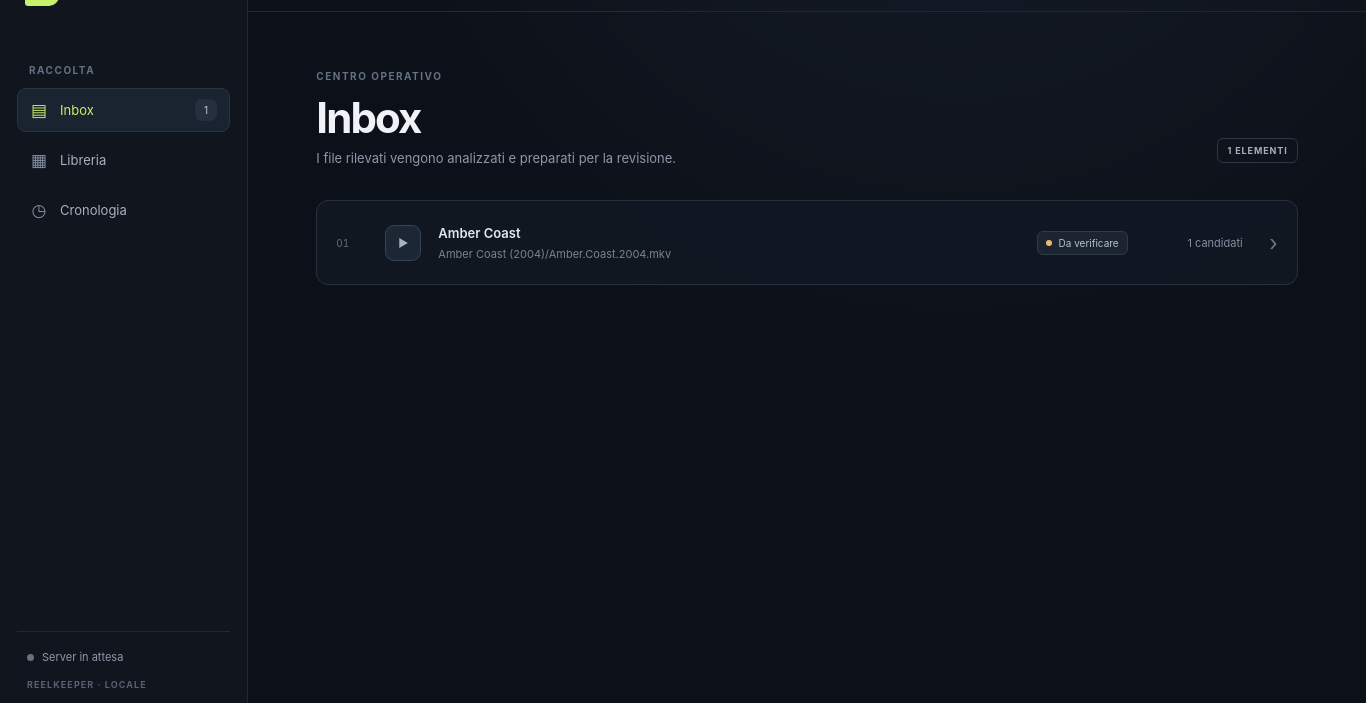
Test: App › edits metadata with explicit approval and locks changed fields
The image size is (1366, 703).
Click the text "Amber Coast": (479,232) [438,224,520,240]
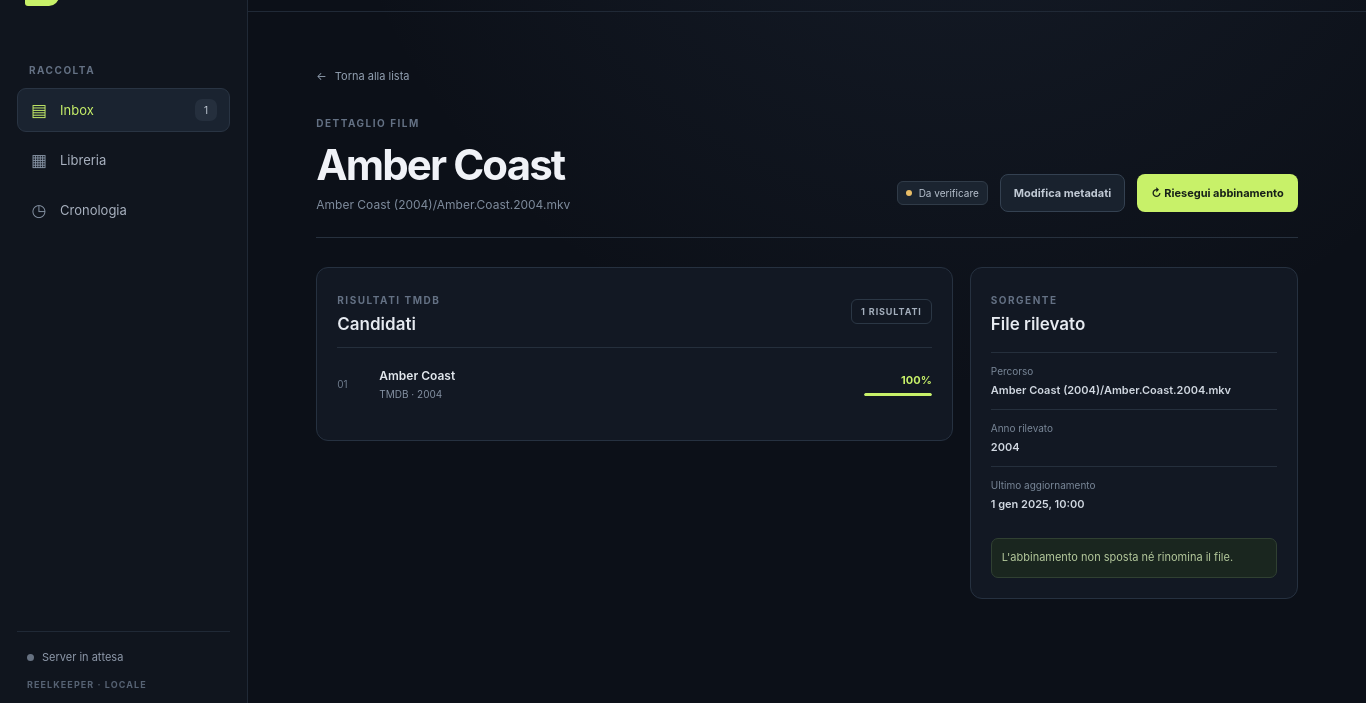
Click the button "Modifica metadati": (1062,193) [1000,174,1125,212]
(page scrolled)
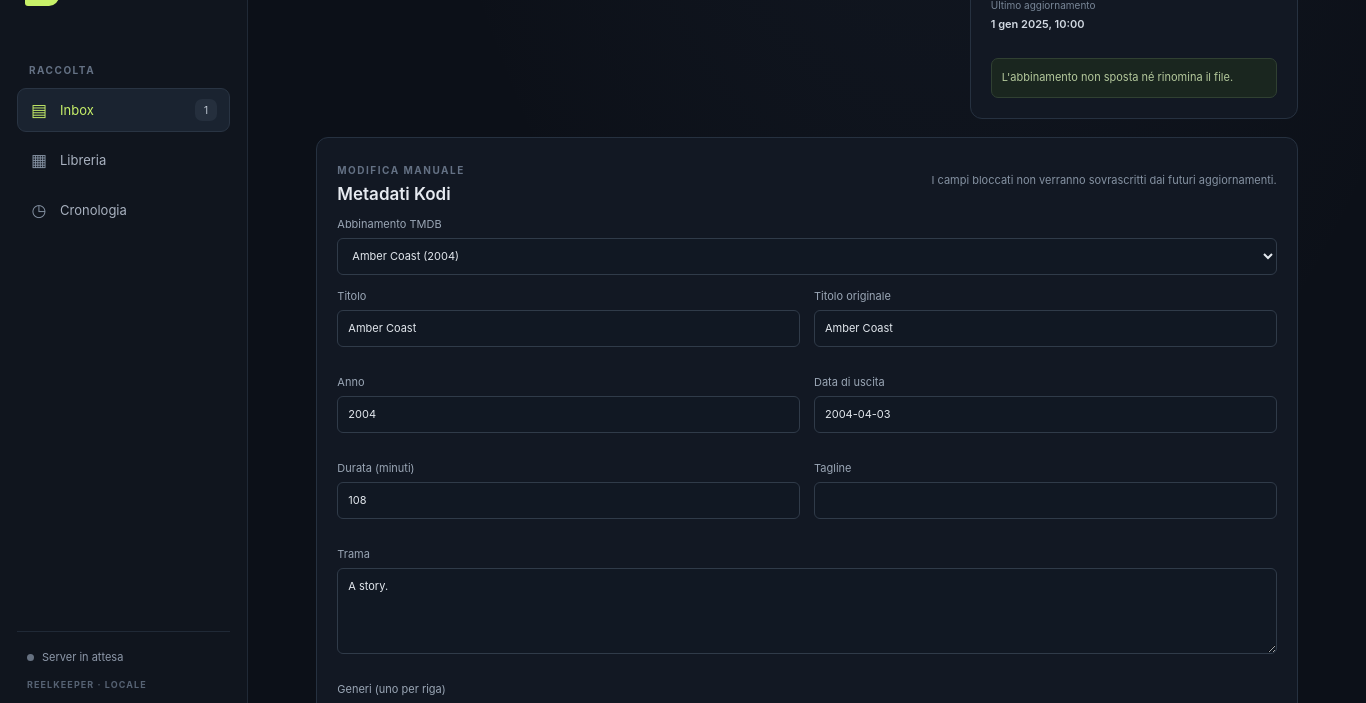
Replace the text in the field labelled "Titolo" with "Manual title": (569,328) [337,310,800,347]
(page scrolled)
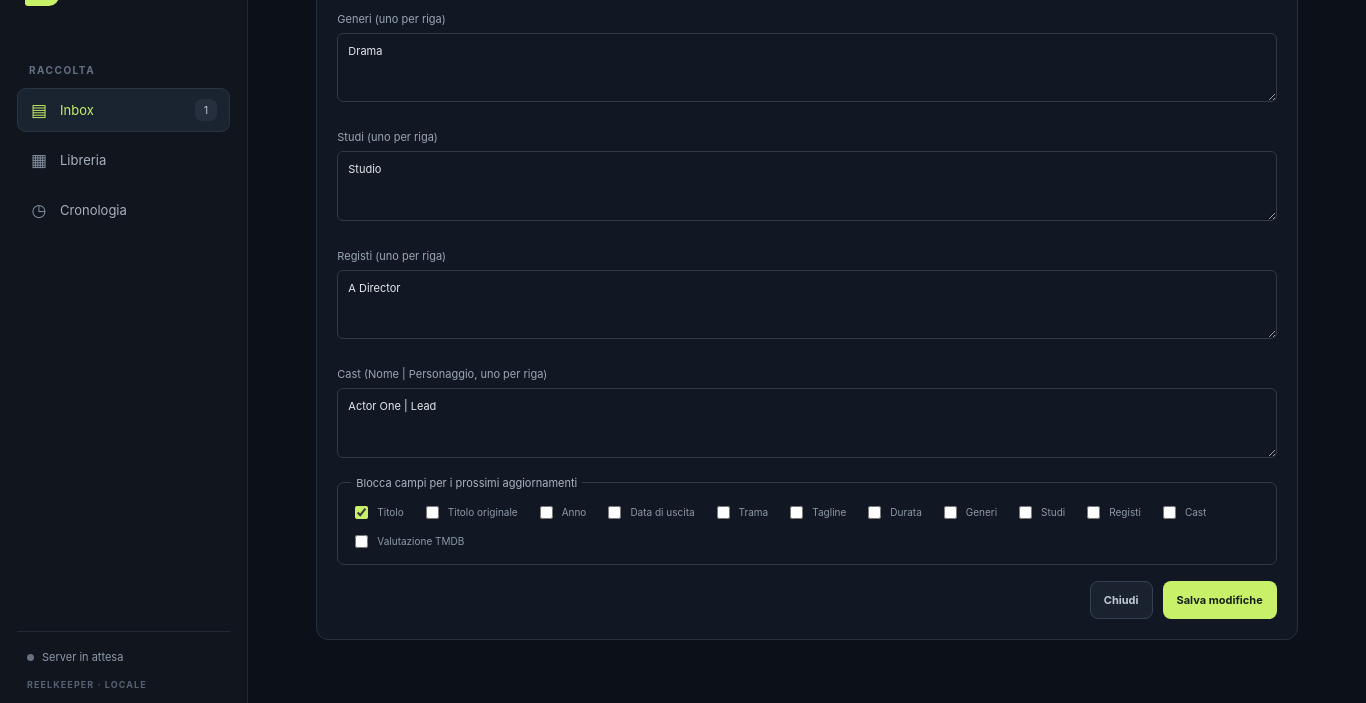
Click the button "Salva modifiche": (1220,600) [1162,581,1277,619]
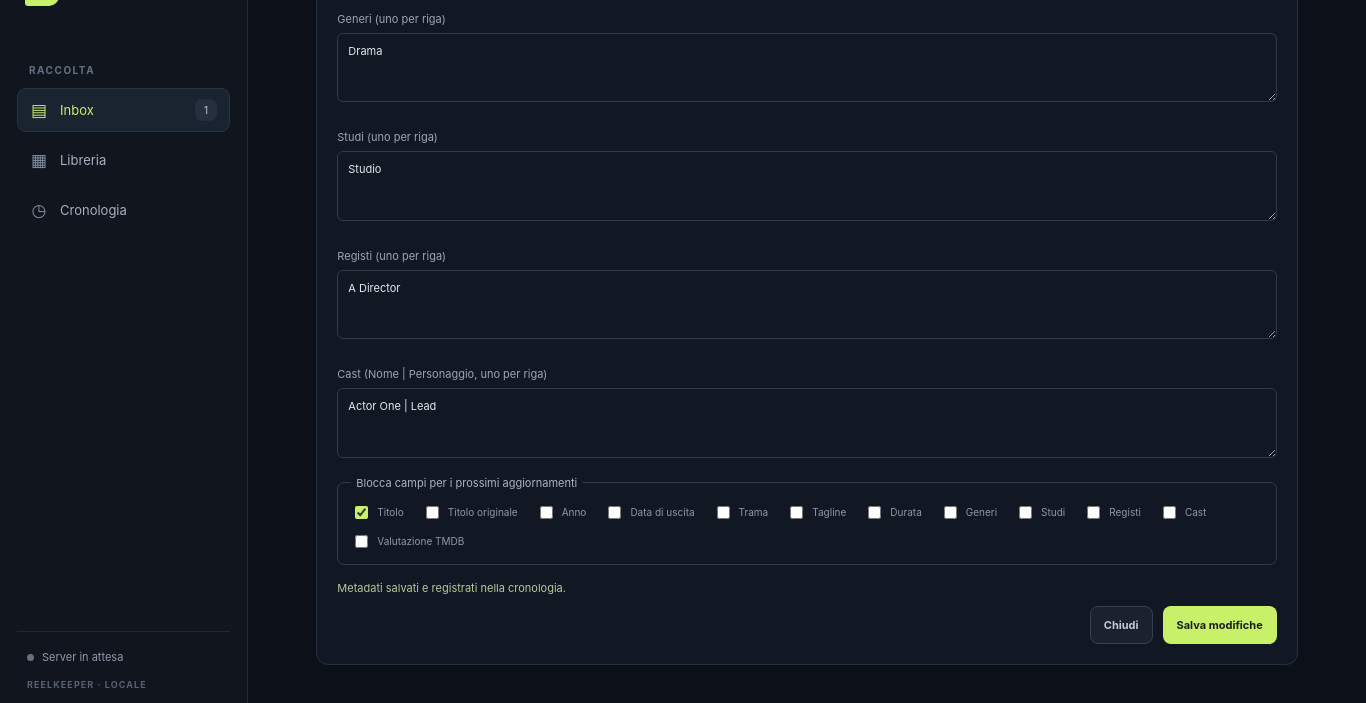
Expected: the text "Metadati salvati e registrati nella cronologia." is shown, [337,581,566,595]
